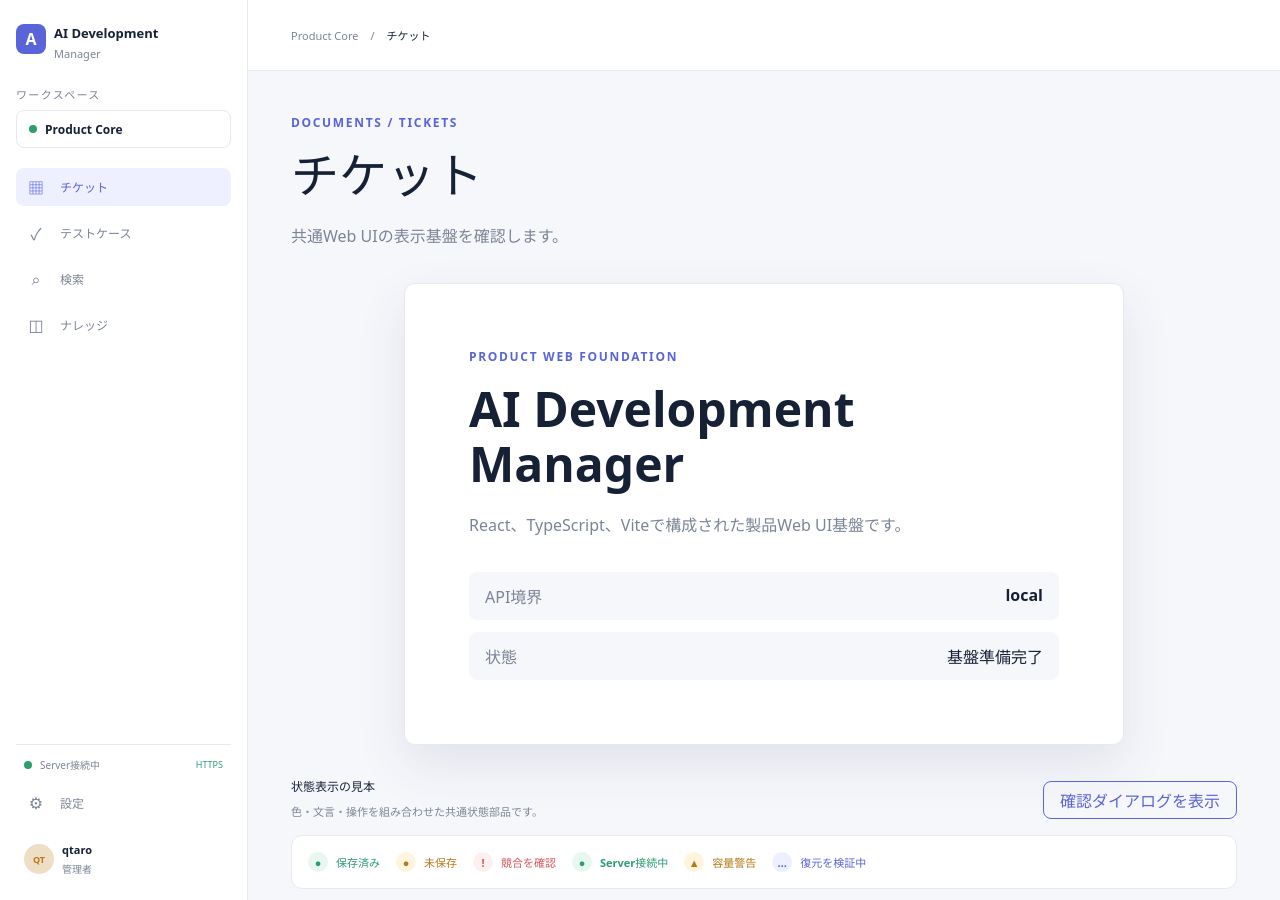
Scenario: App foundation › opens settings from the Local home
The width and height of the screenshot is (1280, 900).
Click the link "⚙ 設定" at (36, 803), box [29,792,84,814]
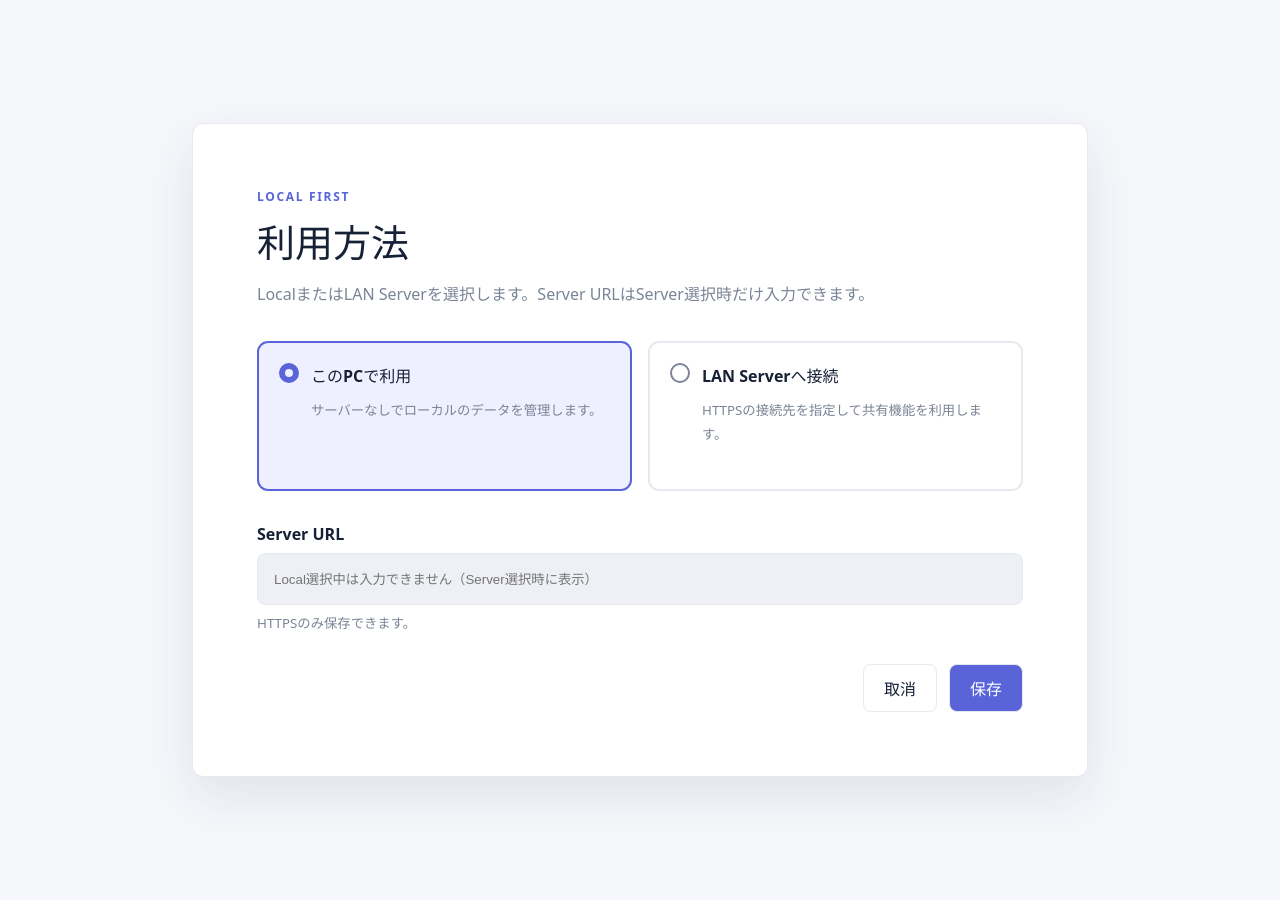
Expected: the heading "利用方法" is shown, [257,216,409,268]
Expected: the field labelled "Server URL" is disabled, [257,553,1023,605]
